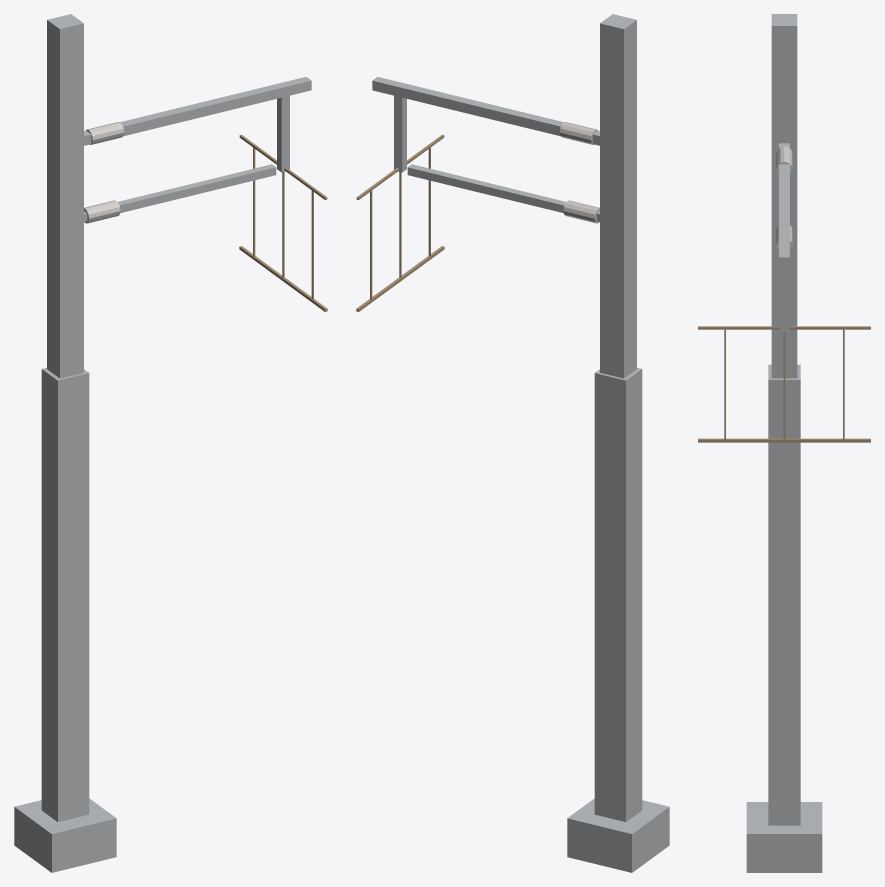
File: poste_catenaria.glb
The picture shows the model from 3 angles, left to right: view 1: azimuth 30°, elevation 25°; view 2: azimuth 150°, elevation 25°; view 3: azimuth 270°, elevation 25°; orthographic projection.
Parts seen in each view (by area): view 1: Poste, Mensula, Hilos, Aisladores; view 2: Poste, Mensula, Hilos, Aisladores; view 3: Poste, Hilos, Mensula, Aisladores.
Boxes of the visible parts, bbox=[...] form: Poste: bbox=[14, 14, 116, 872]; Mensula: bbox=[84, 77, 311, 221]; Hilos: bbox=[239, 134, 327, 311]; Aisladores: bbox=[84, 122, 124, 223]; Poste: bbox=[567, 14, 669, 872]; Mensula: bbox=[372, 77, 599, 221]; Hilos: bbox=[356, 134, 444, 311]; Aisladores: bbox=[559, 122, 599, 223]; Poste: bbox=[746, 14, 822, 872]; Hilos: bbox=[698, 326, 870, 442]; Mensula: bbox=[779, 143, 789, 332]; Aisladores: bbox=[776, 146, 792, 250].
Size of the model in its own units: 2.98 by 8.55 by 1.6.
